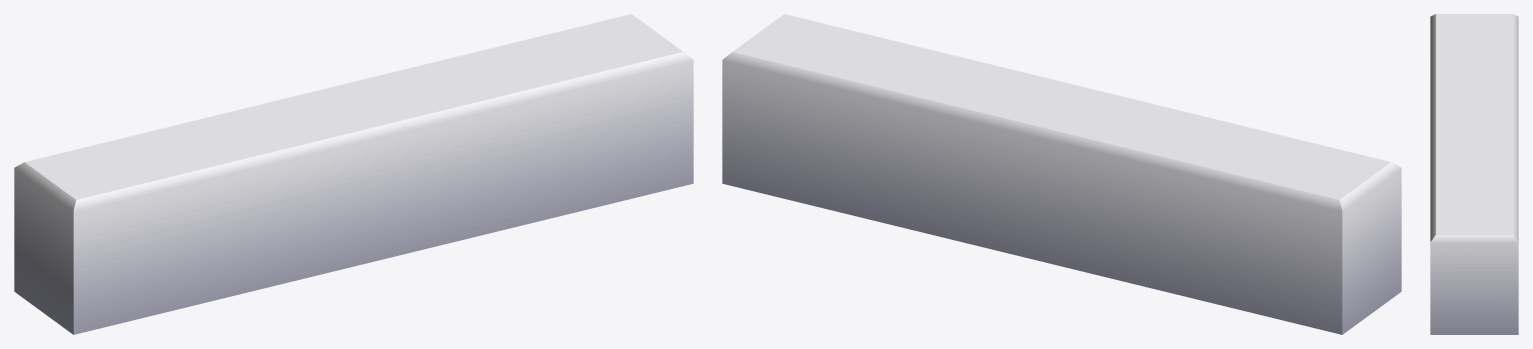
File: brick-kit--none-hq-brick-1x6.glb
The picture shows the model from 3 angles, left to right: view 1: azimuth 30°, elevation 25°; view 2: azimuth 150°, elevation 25°; view 3: azimuth 270°, elevation 25°; orthographic projection. The views are drawn at different scales.
Visible parts, largest first — view 1: none-hq-brick-1x6; view 2: none-hq-brick-1x6; view 3: none-hq-brick-1x6.
Part boxes in pixels (box(x1,y1,x2,y2)): none-hq-brick-1x6: box(14, 14, 693, 334); none-hq-brick-1x6: box(722, 14, 1401, 334); none-hq-brick-1x6: box(1430, 14, 1518, 334).
Bounding box in the file's own units: 0.477 × 0.096 × 0.079.
1 material, 1 textured.
